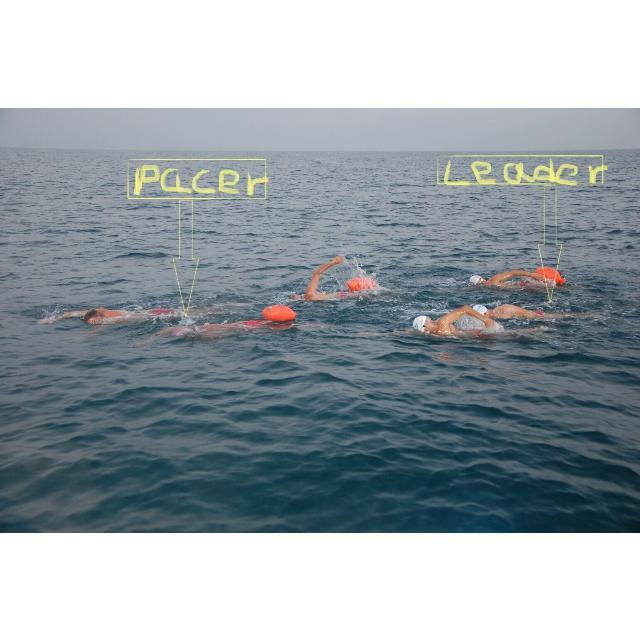human: (33, 302, 220, 320), (294, 249, 345, 303), (150, 317, 263, 337), (412, 305, 475, 340), (467, 263, 531, 289), (473, 300, 539, 324)
